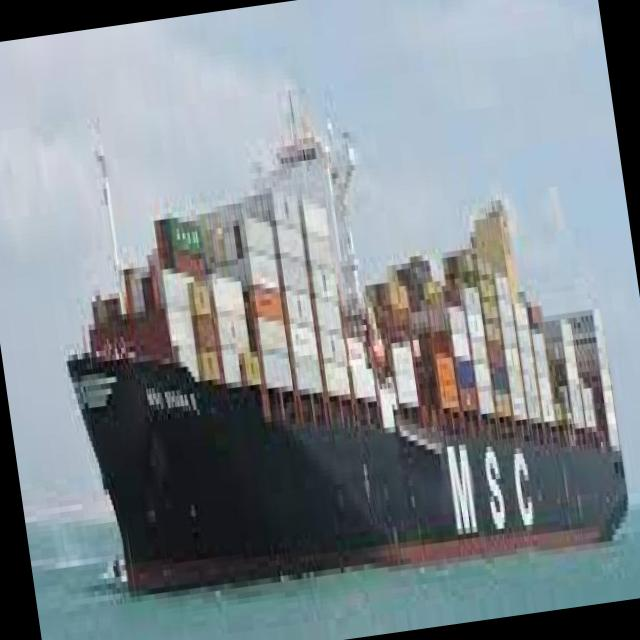Cargo: (67, 136, 626, 590)
